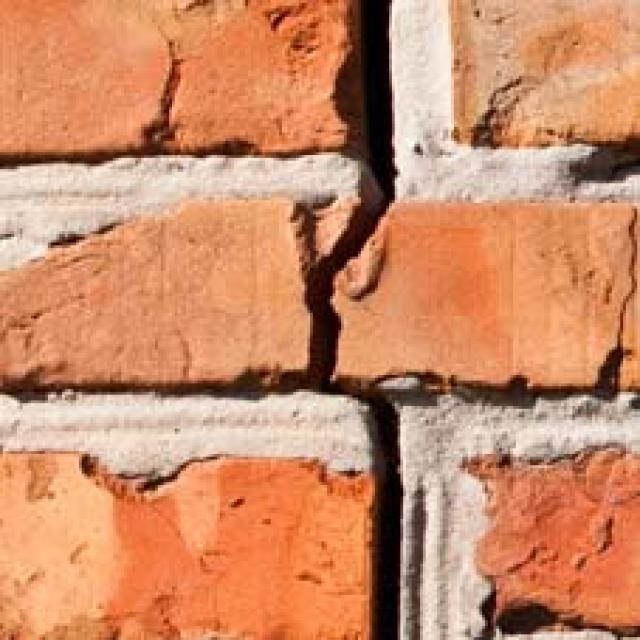Crack: (265, 0, 546, 640)
